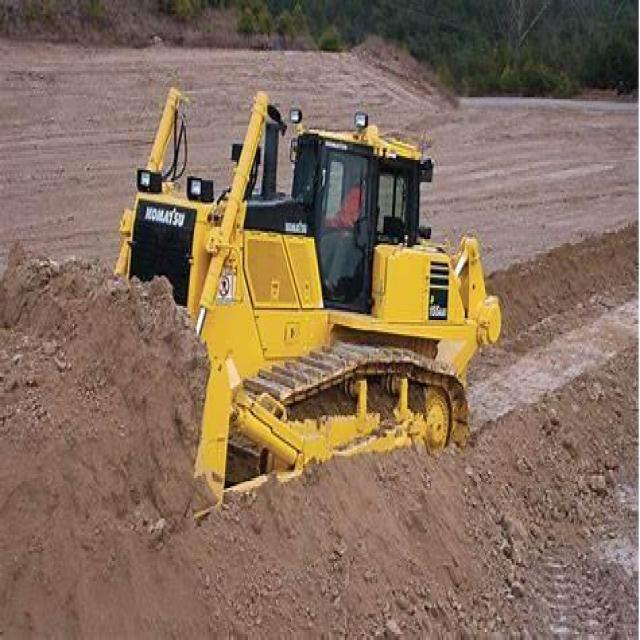Bulldozer: (85, 73, 509, 537)
